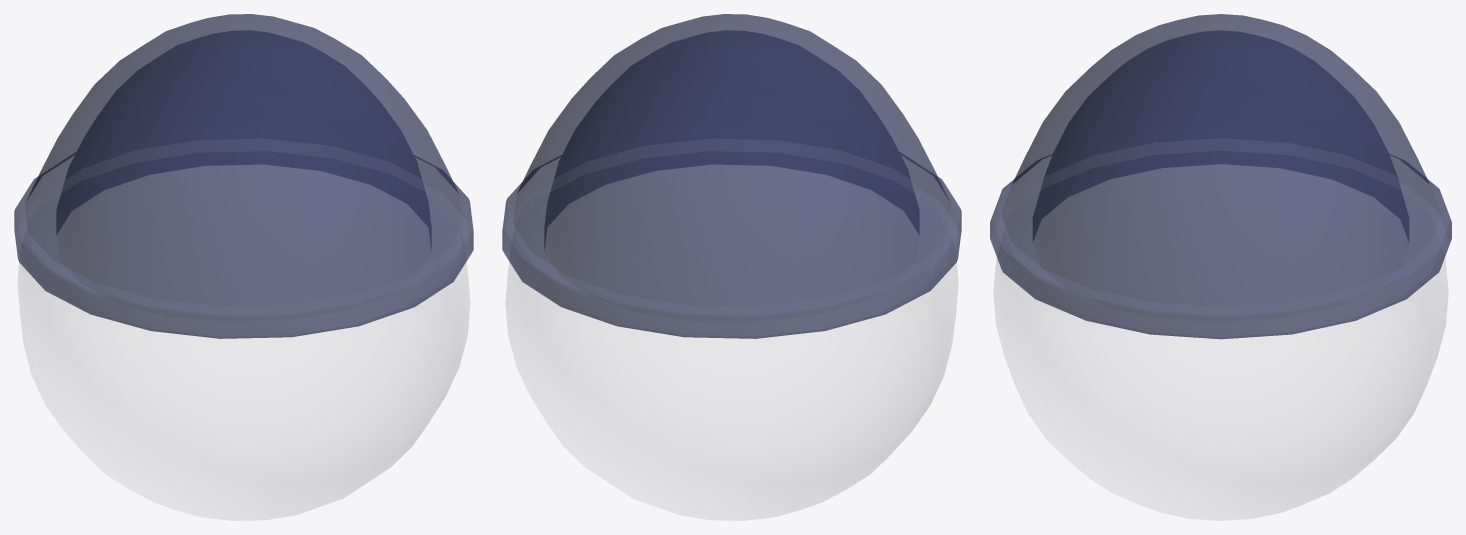
File: SM_Captslue.fbx
3 renders of one model, left to right at view 1: azimuth 30°, elevation 25°; view 2: azimuth 150°, elevation 25°; view 3: azimuth 270°, elevation 25°, orthographic.
Parts seen in each view (by area): view 1: SM_Captslue; view 2: SM_Captslue; view 3: SM_Captslue.
Boxes of the visible parts, left/top/right/bottom form: SM_Captslue: left=14, top=14, right=473, bottom=520; SM_Captslue: left=502, top=14, right=961, bottom=520; SM_Captslue: left=990, top=14, right=1451, bottom=520.
Size of the model in its own units: 1.28 by 1.44 by 1.28.
